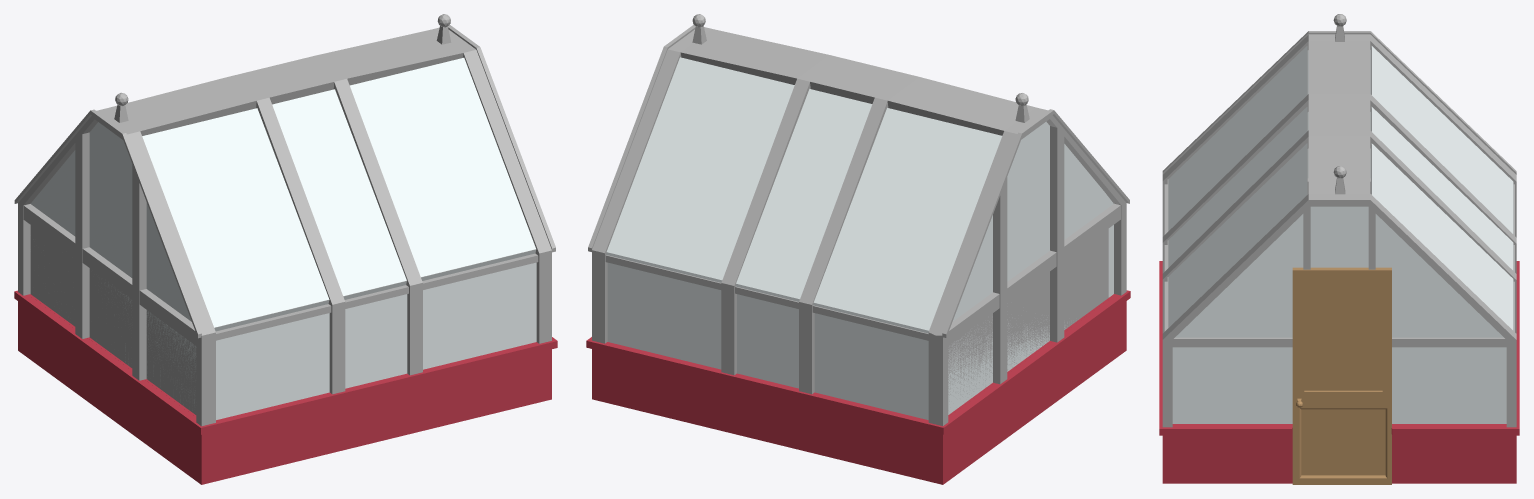
File: GreenHouse.fbx
The picture shows the model from 3 angles, left to right: view 1: azimuth 30°, elevation 25°; view 2: azimuth 150°, elevation 25°; view 3: azimuth 270°, elevation 25°; orthographic projection. The views are drawn at different scales.
Visible parts, largest first — view 1: Cube.003; view 2: Cube.003; view 3: Cube.003.
Part boxes in pixels (<box>): Cube.003: <box>14,14,557,484</box>; Cube.003: <box>586,14,1130,484</box>; Cube.003: <box>1159,14,1519,484</box>.
Size of the model in its own units: 2073 by 1748 by 1835.
